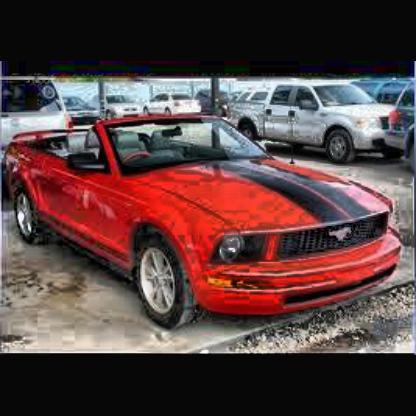Ford Mustang Convertible 2007: (6, 112, 407, 334)
